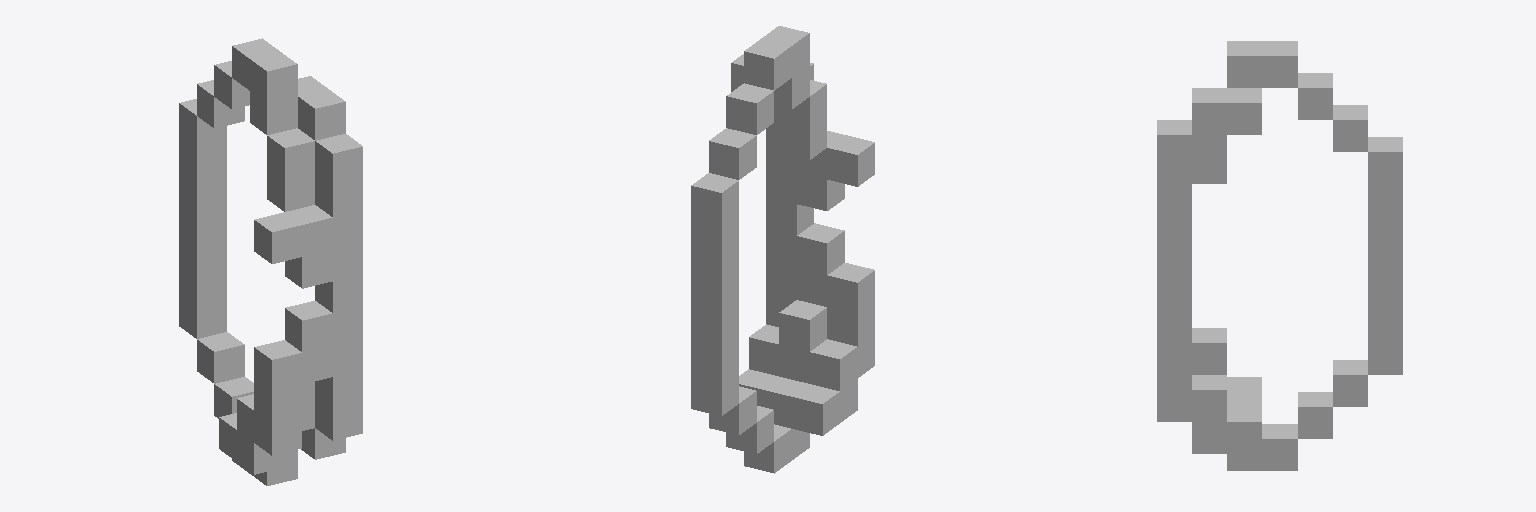
File: BowPull3.obj
The picture shows the model from 3 angles: view 1: azimuth 30°, elevation 25°; view 2: azimuth 150°, elevation 25°; view 3: azimuth 270°, elevation 25°; orthographic projection.
Parts seen in each view (by area): view 1: object 1; view 2: object 1; view 3: object 1.
Part boxes in pixels (x1,y1,x2,y2): object 1: (179,38,362,485); object 1: (691,26,874,473); object 1: (1157,41,1402,470).
Bounding box in the file's own units: 0.3 × 1.3 × 0.7.